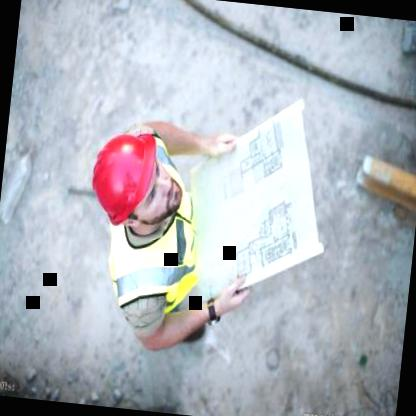helmet: (86, 124, 188, 249)
